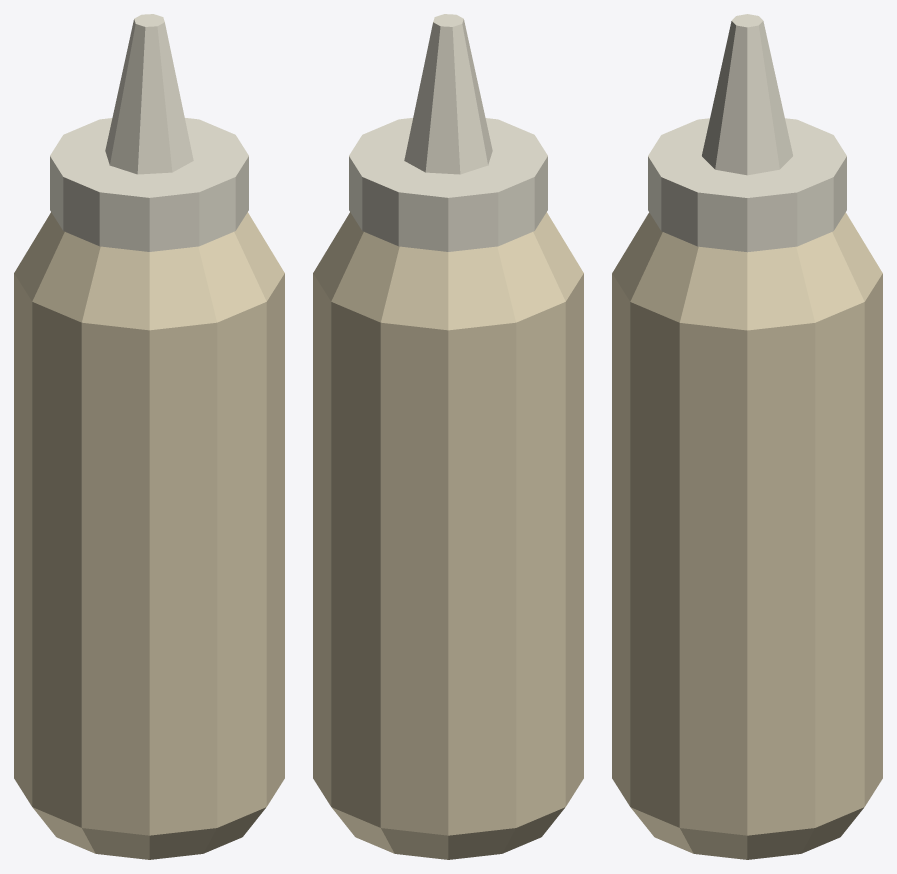
File: Sauce_Mayo.glb
The picture shows the model from 3 angles, left to right: view 1: azimuth 30°, elevation 25°; view 2: azimuth 150°, elevation 25°; view 3: azimuth 270°, elevation 25°; orthographic projection.
Visible parts, largest first — view 1: Sauce_Mayo; view 2: Sauce_Mayo; view 3: Sauce_Mayo.
Part boxes in pixels (x1=…): Sauce_Mayo: x1=14, y1=14, x2=284, y2=859; Sauce_Mayo: x1=313, y1=14, x2=583, y2=859; Sauce_Mayo: x1=612, y1=14, x2=882, y2=859.
Size of the model in its own units: 0.068 by 0.22 by 0.068.
